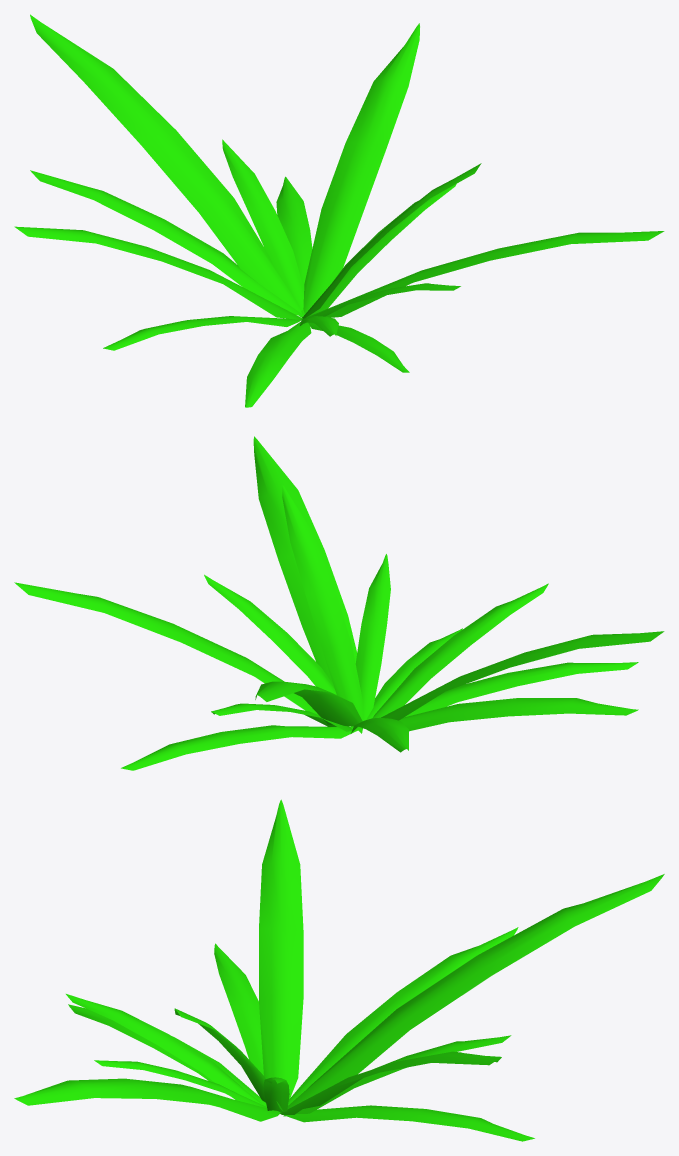
The model's file is bush.fbx.
3 renders of one model, top to bottom at view 1: azimuth 30°, elevation 25°; view 2: azimuth 150°, elevation 25°; view 3: azimuth 270°, elevation 25°, orthographic. The views are drawn at different scales.
Visible parts, largest first — view 1: Plane.002, Plane.003, Plane.001, Plane.012, Plane.013, Plane, Plane.006, Plane.007, Plane.005, Plane.011, Plane.004, Plane.008 (+1 smaller); view 2: Plane.004, Plane.013, Plane.003, Plane.005, Plane.009, Plane.010, Plane.007, Plane, Plane.006, Plane.011, Plane.002, Plane.008 (+2 smaller); view 3: Plane, Plane.002, Plane.013, Plane.001, Plane.007, Plane.009, Plane.005, Plane.003, Plane.012, Plane.006, Plane.010, Plane.004 (+1 smaller).
Part boxes in pixels (x1,y1,x2,y2): Plane.002: (30, 14, 302, 316); Plane.003: (303, 23, 419, 313); Plane.001: (30, 170, 303, 316); Plane.012: (222, 139, 304, 310); Plane.013: (306, 231, 664, 317); Plane: (14, 226, 302, 319); Plane.006: (245, 322, 311, 407); Plane.007: (276, 176, 312, 317); Plane.005: (103, 316, 301, 350); Plane.011: (307, 184, 456, 317); Plane.004: (302, 163, 481, 318); Plane.008: (308, 323, 409, 372); Plane.004: (282, 485, 363, 733); Plane.013: (253, 436, 357, 683); Plane.003: (14, 582, 353, 726); Plane.005: (399, 698, 638, 731); Plane.009: (373, 583, 548, 718); Plane.010: (355, 554, 390, 720); Plane.007: (121, 725, 359, 770); Plane: (362, 631, 664, 728); Plane.006: (404, 662, 638, 717); Plane.011: (204, 574, 364, 728); Plane.002: (255, 681, 362, 726); Plane.008: (366, 628, 462, 719); Plane: (259, 799, 303, 1098); Plane.002: (287, 874, 664, 1109); Plane.013: (14, 1078, 280, 1121); Plane.001: (288, 927, 518, 1105); Plane.007: (284, 1105, 534, 1141); Plane.009: (66, 994, 262, 1104); Plane.005: (214, 943, 263, 1075); Plane.003: (280, 1051, 501, 1114); Plane.012: (283, 1035, 511, 1116); Plane.006: (68, 1004, 266, 1106); Plane.010: (94, 1060, 266, 1107); Plane.004: (174, 1008, 283, 1111).
Bounding box in the file's own units: 1192 × 422 × 1253.
